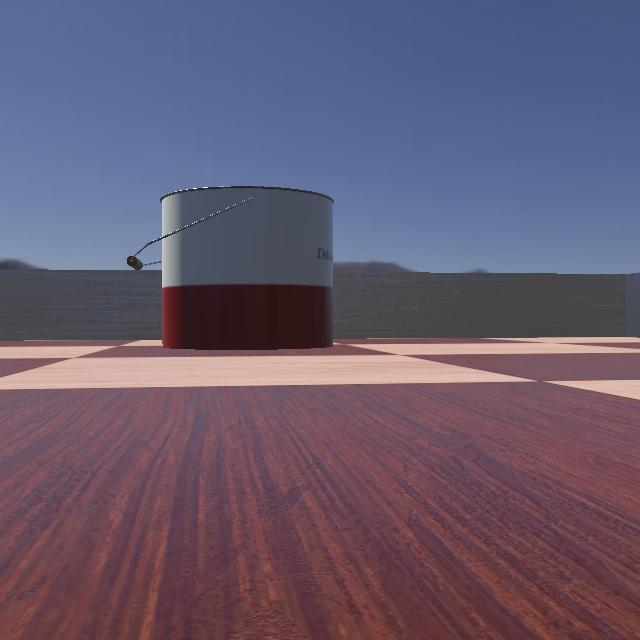paint-bucket: (98, 182, 336, 352)
